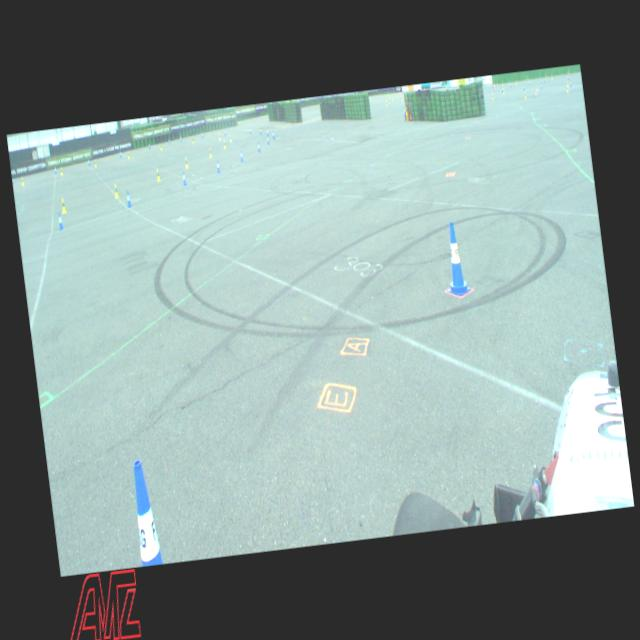blue_cone: (129, 458, 163, 566), (440, 220, 470, 296), (57, 212, 64, 230), (125, 190, 132, 207), (182, 170, 186, 184), (216, 160, 220, 172), (240, 150, 243, 162), (257, 140, 260, 152), (266, 134, 269, 144)
yellow_cone: (60, 197, 66, 213), (114, 184, 118, 198), (156, 168, 160, 180), (184, 156, 188, 168), (208, 147, 212, 157), (566, 83, 568, 92), (524, 91, 526, 99)
